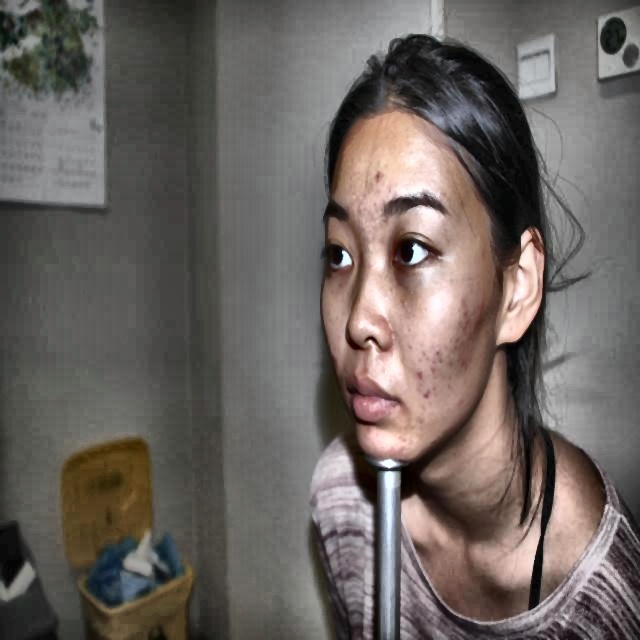pustule: (458, 353, 477, 374), (475, 294, 489, 319), (370, 164, 384, 187), (462, 309, 475, 330), (414, 361, 426, 377), (456, 395, 468, 411), (422, 387, 431, 403)
